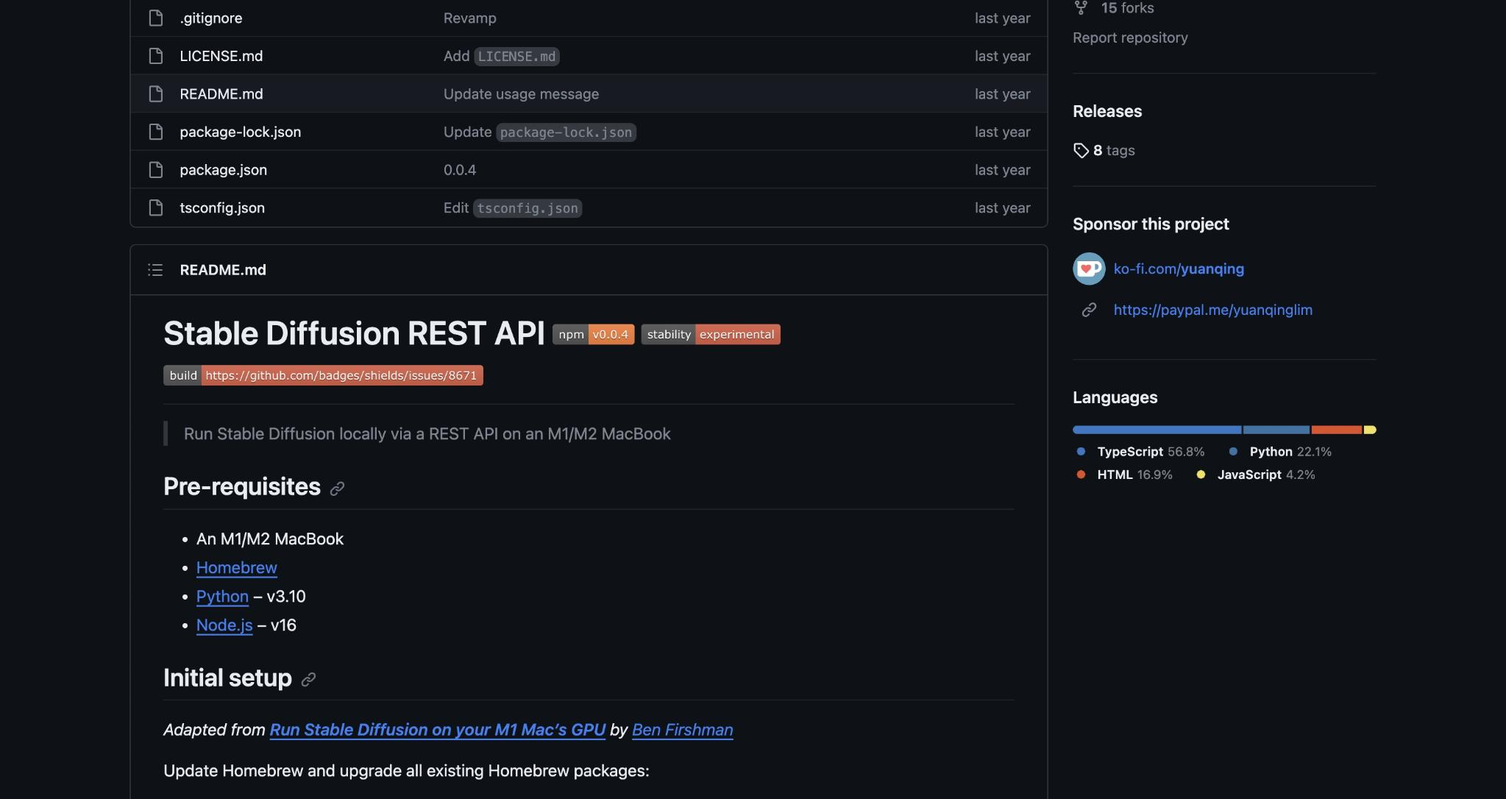webelement: (130, 35, 1047, 74), (130, 149, 1047, 188), (130, 73, 1047, 111), (130, 111, 1047, 149), (130, 187, 1047, 225), (163, 716, 1014, 741), (163, 757, 1014, 782), (184, 420, 998, 445), (163, 312, 552, 350), (443, 6, 912, 28), (443, 120, 912, 142), (443, 45, 912, 66), (443, 82, 912, 103), (443, 158, 912, 179), (443, 196, 912, 217), (269, 718, 605, 737), (163, 365, 483, 384), (1114, 258, 1376, 279), (180, 6, 426, 28), (180, 120, 426, 142), (163, 470, 346, 499), (180, 45, 426, 66), (180, 82, 426, 103), (180, 158, 426, 179), (180, 196, 426, 217), (164, 662, 316, 690), (443, 122, 636, 139), (1114, 301, 1313, 317), (641, 323, 780, 343), (443, 84, 599, 101), (1073, 441, 1205, 459), (443, 198, 581, 215), (928, 6, 1030, 28), (928, 120, 1030, 142), (1114, 260, 1244, 277), (928, 45, 1030, 66), (928, 82, 1030, 103), (928, 158, 1030, 179), (928, 196, 1030, 217), (180, 122, 300, 139), (443, 47, 559, 64), (1073, 28, 1189, 45), (632, 718, 734, 737), (1225, 441, 1331, 459), (1073, 465, 1172, 483), (552, 323, 634, 343), (196, 556, 277, 575), (180, 160, 266, 177), (180, 261, 266, 278), (180, 198, 264, 215), (180, 47, 262, 64), (180, 84, 262, 101), (1073, 425, 1242, 433), (1073, 101, 1143, 120), (1097, 441, 1163, 459), (1218, 465, 1282, 483), (179, 8, 242, 25), (1073, 141, 1136, 158), (196, 614, 252, 633), (139, 252, 171, 285), (1073, 252, 1106, 284), (196, 585, 248, 604), (444, 8, 497, 25), (1249, 441, 1292, 459), (1167, 441, 1205, 459), (1098, 465, 1133, 483), (1137, 465, 1172, 483), (1297, 441, 1331, 459), (444, 160, 476, 177), (1285, 465, 1315, 483), (1243, 425, 1308, 433), (1105, 141, 1134, 158), (1311, 425, 1361, 433), (147, 6, 163, 28), (147, 120, 163, 142), (147, 45, 163, 66), (147, 82, 163, 103), (147, 158, 163, 179), (147, 196, 163, 217), (1093, 141, 1101, 158), (1363, 425, 1375, 433)
